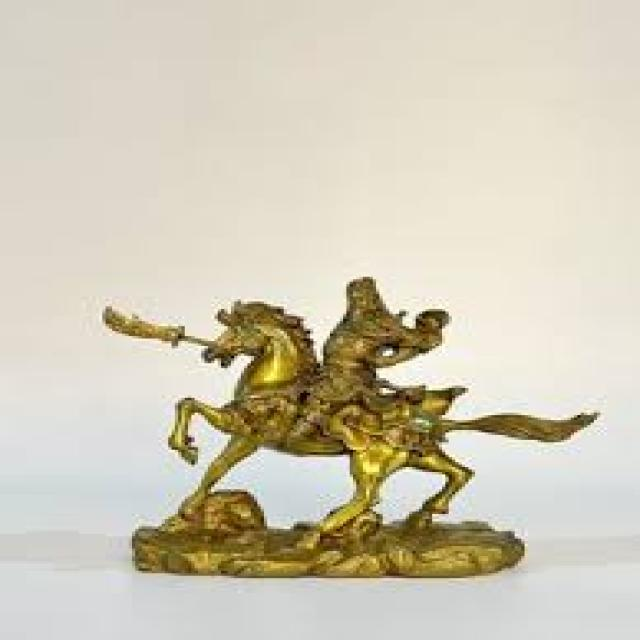Guan Yu: (302, 263, 432, 405)
